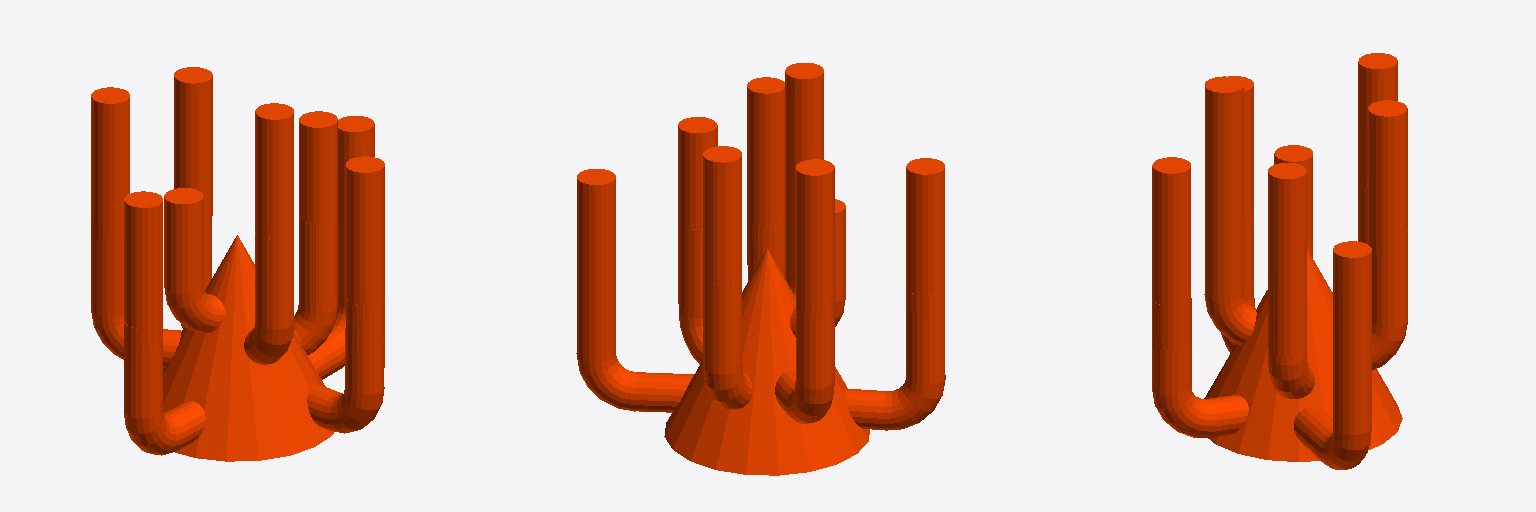
3 views of the same model, side by side, from view 1: azimuth 30°, elevation 25°; view 2: azimuth 150°, elevation 25°; view 3: azimuth 270°, elevation 25° (orthographic).
Parts seen in each view (by area): view 1: pasted__pasted__group14_pasted__pasted__pasted__group13_pasted__, polySurface27pasted__pasted__group14_pasted__pasted__pasted__gro; view 2: pasted__pasted__group14_pasted__pasted__pasted__group13_pasted__, polySurface27pasted__pasted__group14_pasted__pasted__pasted__gro; view 3: pasted__pasted__group14_pasted__pasted__pasted__group13_pasted__, polySurface27pasted__pasted__group14_pasted__pasted__pasted__gro.
Part boxes in pixels (bbox=[...]): pasted__pasted__group14_pasted__pasted__pasted__group13_pasted__: bbox=[91, 67, 384, 461]; polySurface27pasted__pasted__group14_pasted__pasted__pasted__gro: bbox=[338, 116, 374, 307]; pasted__pasted__group14_pasted__pasted__pasted__group13_pasted__: bbox=[576, 63, 945, 475]; polySurface27pasted__pasted__group14_pasted__pasted__pasted__gro: bbox=[577, 169, 615, 361]; pasted__pasted__group14_pasted__pasted__pasted__group13_pasted__: bbox=[1152, 53, 1407, 469]; polySurface27pasted__pasted__group14_pasted__pasted__pasted__gro: bbox=[1333, 241, 1371, 434].
Bounding box in the file's own units: 1.77 × 1.85 × 1.29.
1 materials, 1 textured.